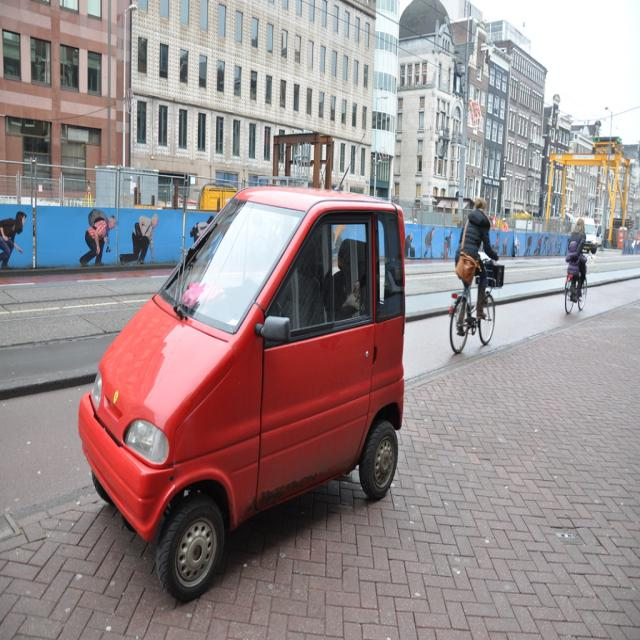car: (76, 183, 404, 603)
